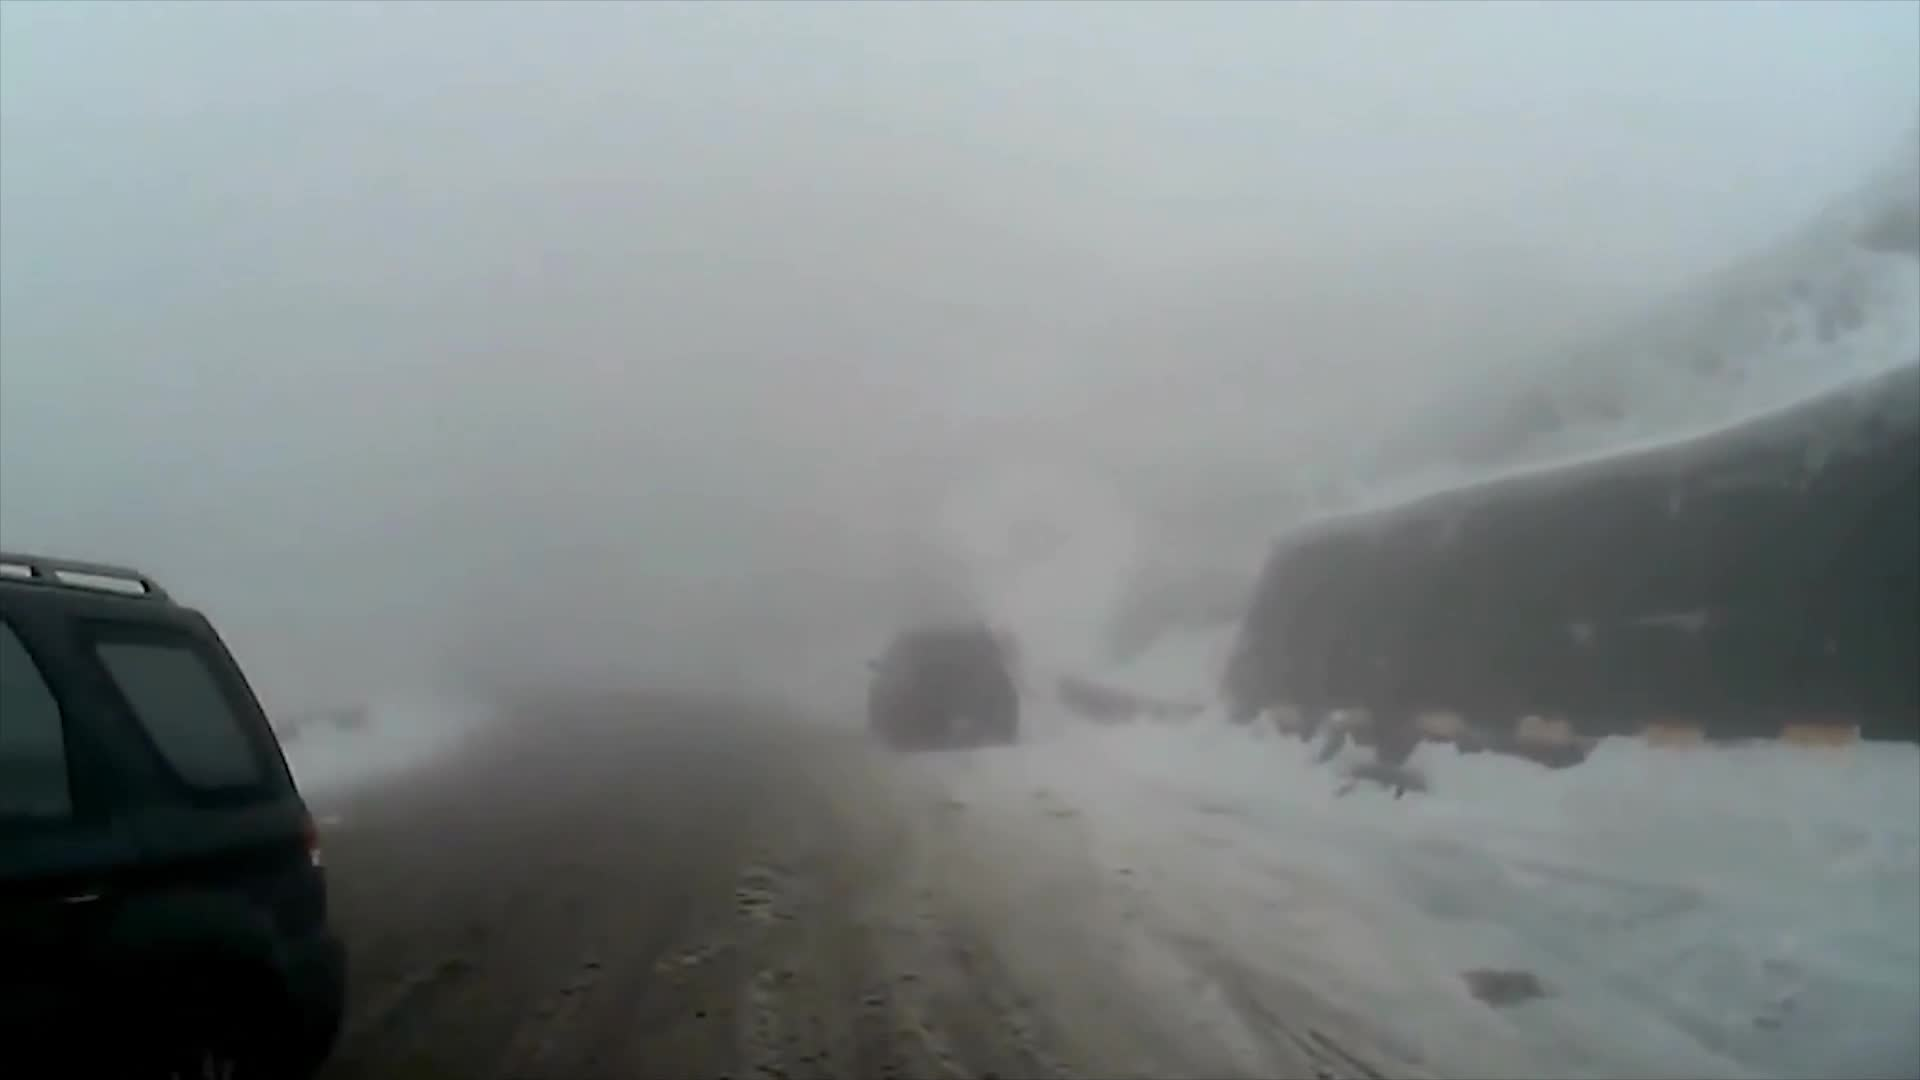vehicle: (0, 549, 342, 1073), (864, 617, 1021, 750)
